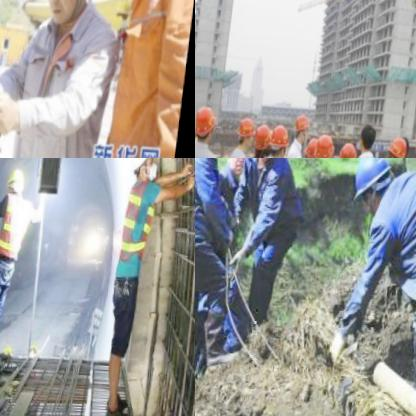helmet: (347, 158, 399, 221), (33, 0, 109, 30), (195, 102, 222, 147), (6, 164, 33, 203), (271, 116, 296, 158), (237, 112, 260, 151), (256, 120, 278, 158), (129, 158, 162, 182), (294, 110, 315, 146), (389, 131, 414, 158), (338, 134, 365, 158), (308, 130, 325, 158), (318, 133, 337, 158), (224, 158, 257, 172)
